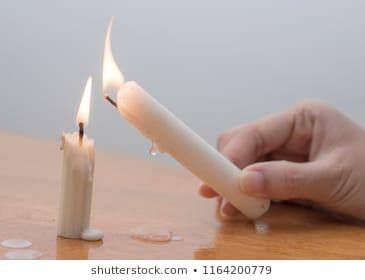fire: (99, 15, 124, 97), (74, 74, 96, 129)
